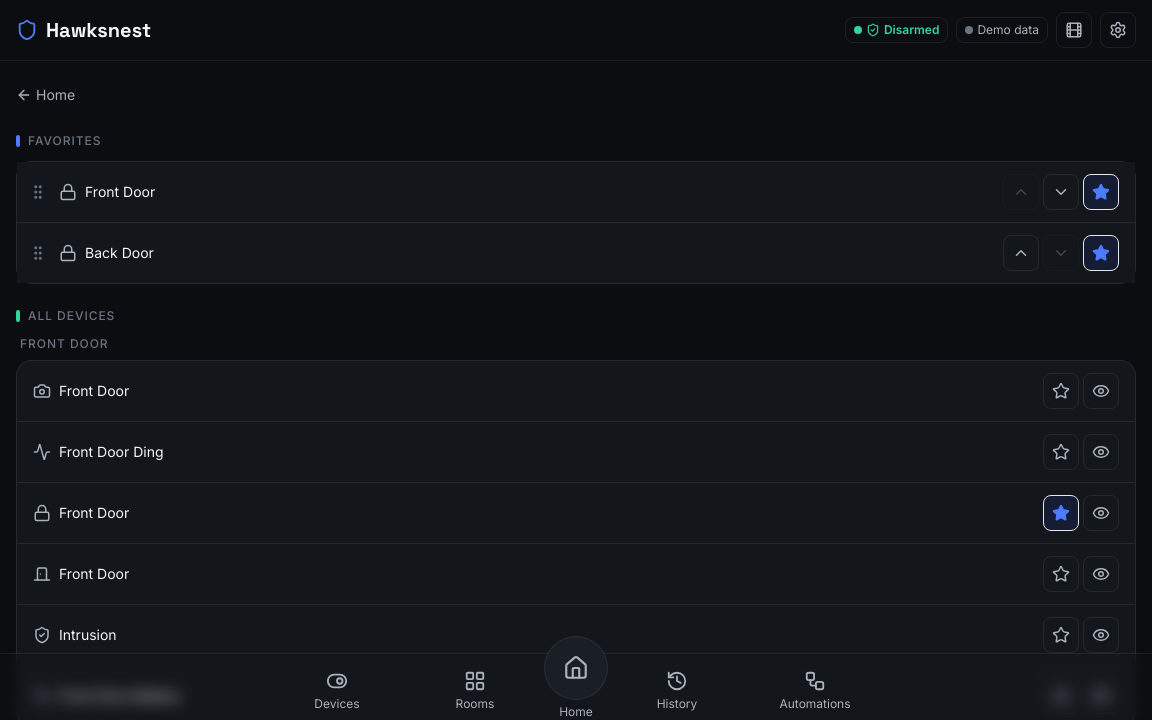
Test case: Customize › unpins a favorite, removing it from the Favorites panel
Step 1. Click the 1st button named "Unpin" → (1101, 192), box [1083,174,1119,210]
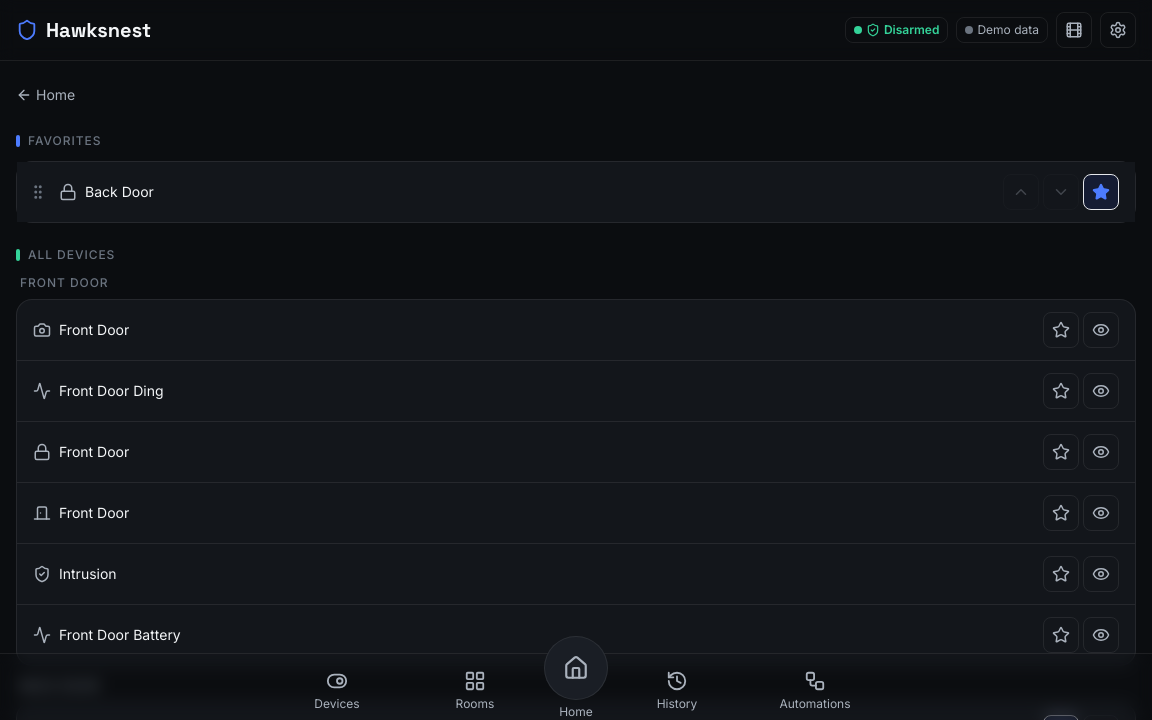
Expected: the number of buttons named "Unpin" is 1, [1083,174,1119,210]
